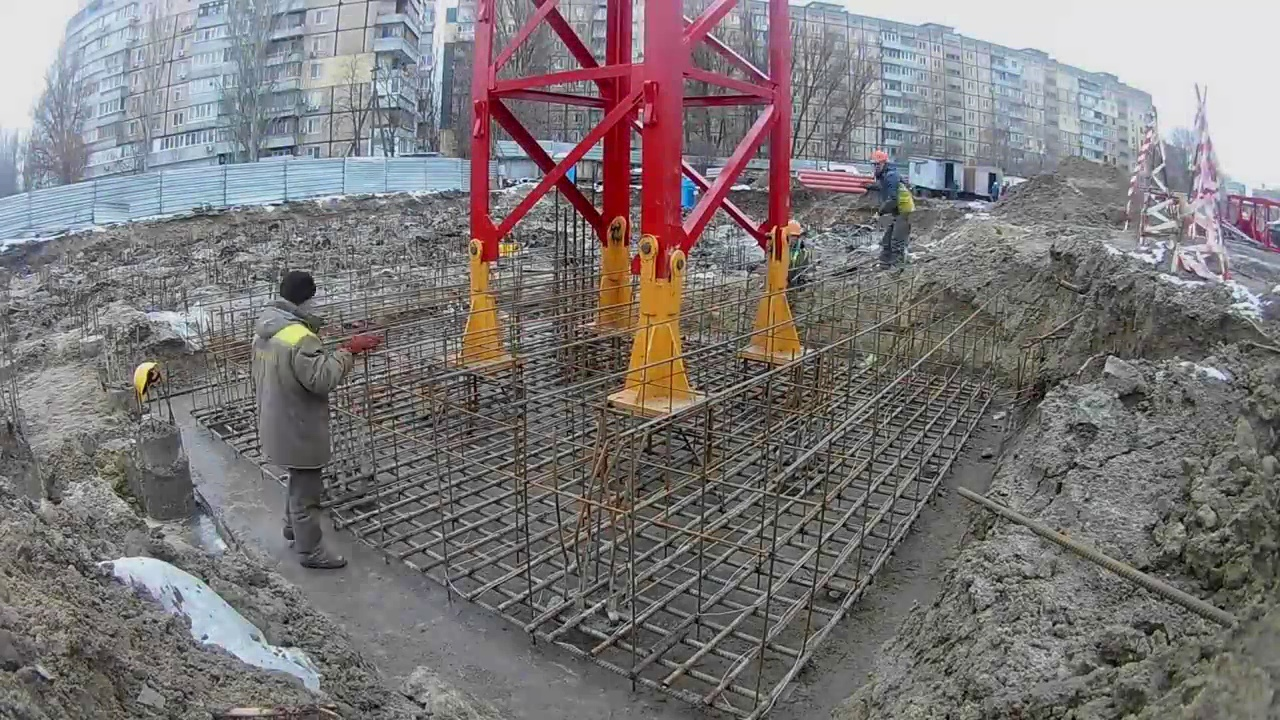helmet: (133, 361, 159, 402), (786, 219, 804, 237), (870, 150, 888, 164)
helmet-off: (276, 275, 315, 320)
helmet-on: (786, 219, 805, 248), (869, 150, 889, 174)
person: (248, 275, 381, 569), (869, 150, 916, 271), (785, 220, 808, 293)
